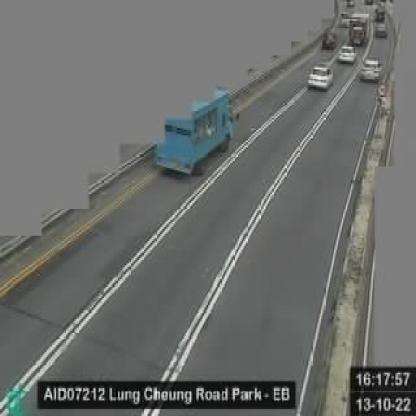Car: (306, 63, 334, 89), (360, 57, 385, 84), (337, 46, 357, 66), (321, 31, 338, 49), (375, 23, 387, 39), (375, 7, 385, 20)
Truck: (154, 86, 235, 176), (350, 16, 368, 48)
